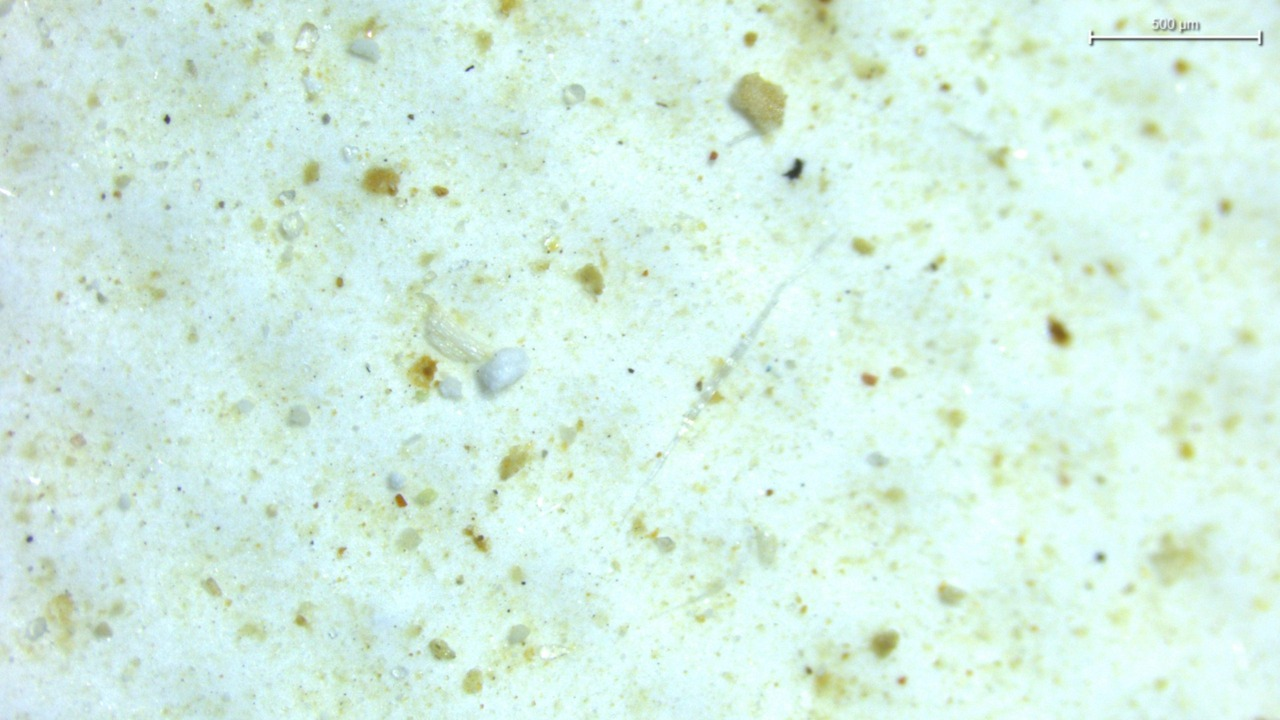microplastic_fragment: (420, 294, 490, 363)
